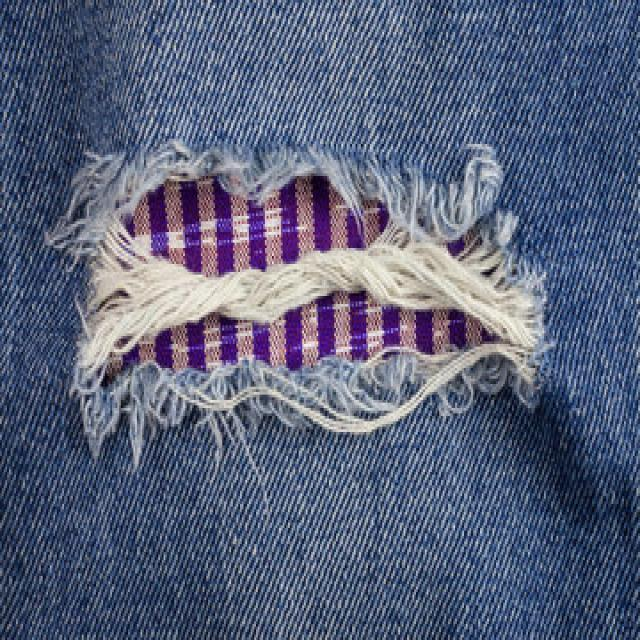Hole: (49, 142, 545, 466)
